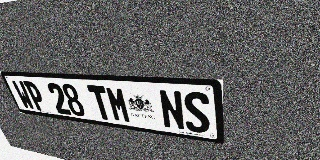2: (46, 82, 72, 115)
8: (60, 83, 87, 117)
M: (105, 86, 132, 123)
N: (158, 89, 186, 131)
P: (23, 81, 48, 112)
S: (182, 91, 210, 134)
T: (87, 85, 114, 121)
W: (11, 80, 36, 110)
